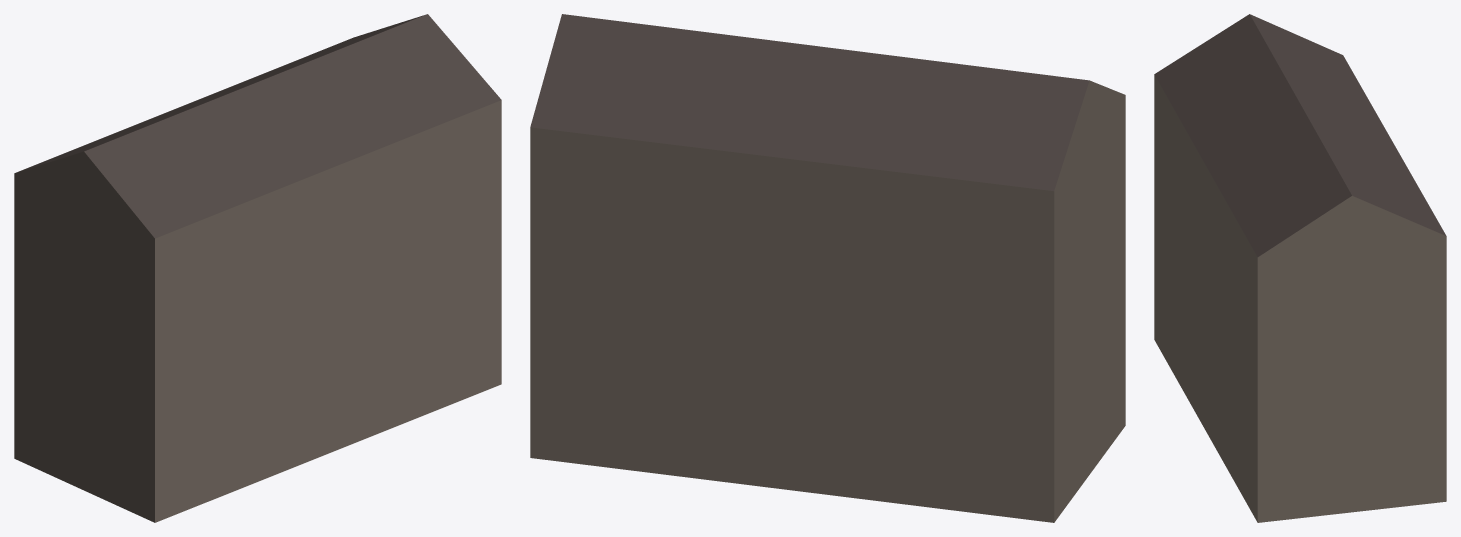
3 views of the same model, side by side, from view 1: azimuth 30°, elevation 25°; view 2: azimuth 150°, elevation 25°; view 3: azimuth 270°, elevation 25° (orthographic). The views are drawn at different scales.
Parts seen in each view (by area): view 1: HP-w505643566; view 2: HP-w505643566; view 3: HP-w505643566.
Boxes of the visible parts, left/top/right/bottom form: HP-w505643566: left=14, top=14, right=501, bottom=522; HP-w505643566: left=530, top=14, right=1125, bottom=522; HP-w505643566: left=1154, top=14, right=1446, bottom=522.
Size of the model in its own units: 9.76 by 7.16 by 5.99.
